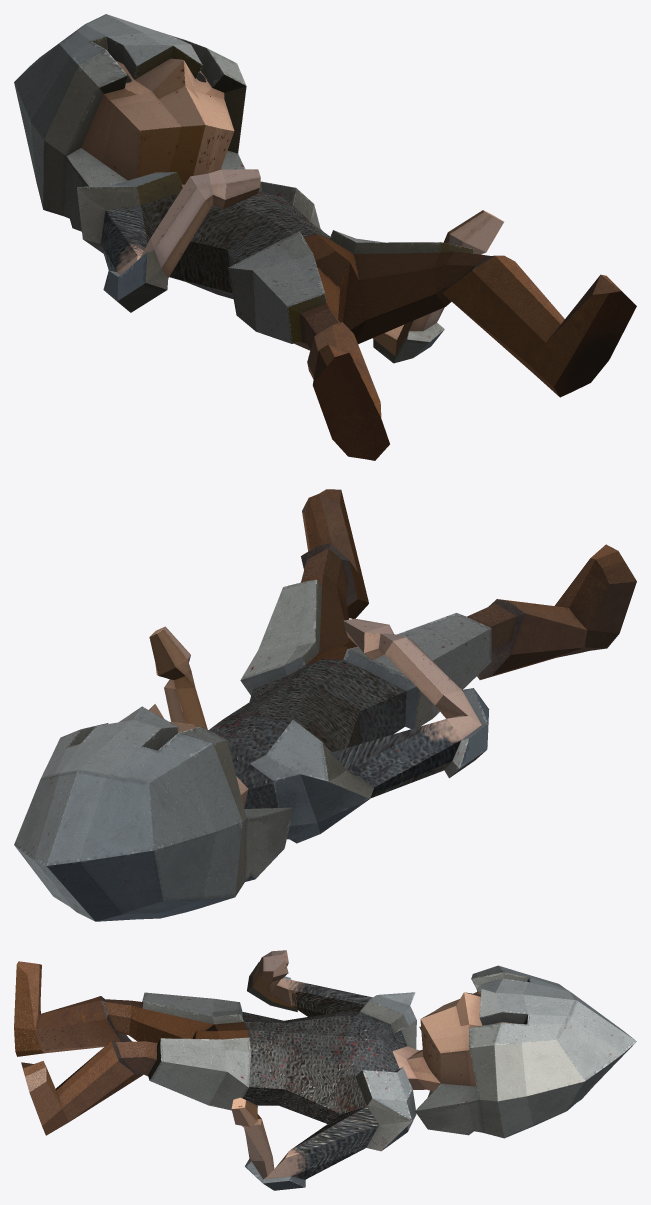
File: Walk_Soldier_10.obj
The picture shows the model from 3 angles, top to bottom: view 1: azimuth 30°, elevation 25°; view 2: azimuth 150°, elevation 25°; view 3: azimuth 270°, elevation 25°; orthographic projection. The views are drawn at different scales.
Parts seen in each view (by area): view 1: Soldado_LowPolySTD; view 2: Soldado_LowPolySTD; view 3: Soldado_LowPolySTD.
Boxes of the visible parts, bbox=[...] form: Soldado_LowPolySTD: bbox=[14, 14, 636, 460]; Soldado_LowPolySTD: bbox=[14, 489, 636, 921]; Soldado_LowPolySTD: bbox=[14, 950, 636, 1190].
Bounding box in the file's own units: 1.42 × 0.8893 × 2.95.
